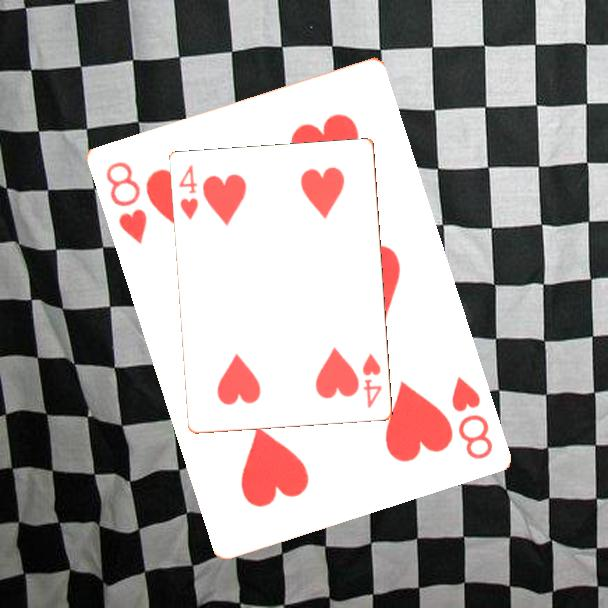h04: (176, 161, 202, 223), (359, 350, 385, 411)
h08: (101, 157, 150, 247), (447, 372, 495, 462)
